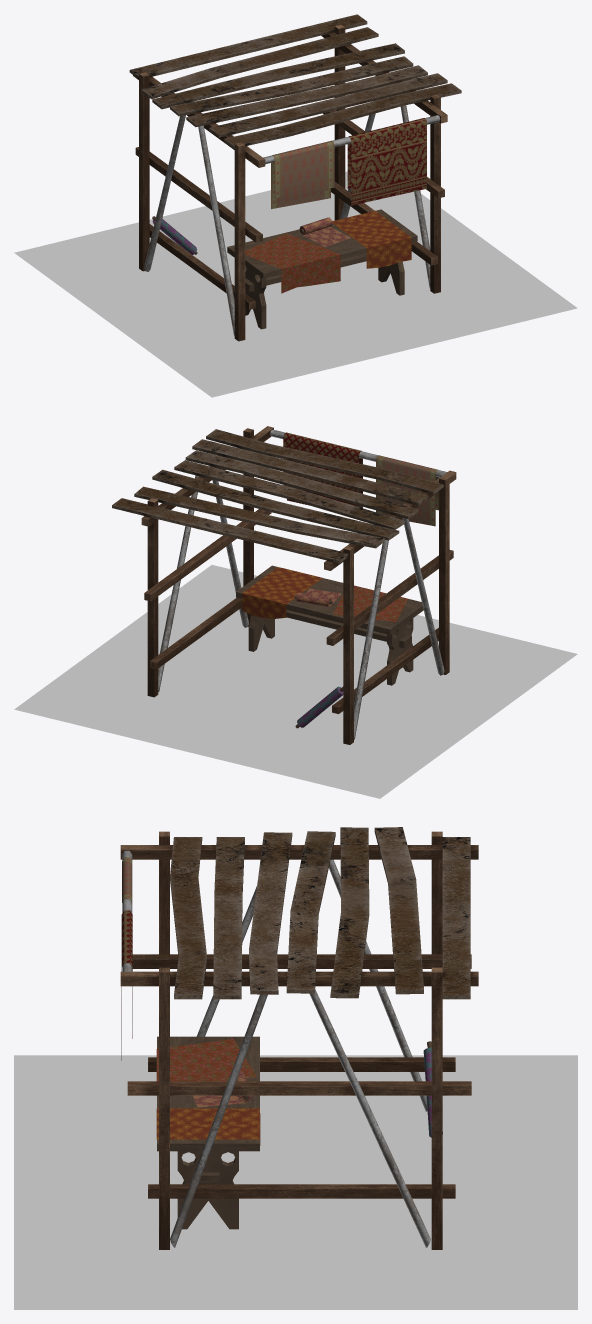
3 renders of one model, top to bottom at view 1: azimuth 30°, elevation 25°; view 2: azimuth 150°, elevation 25°; view 3: azimuth 270°, elevation 25°, orthographic. The views are drawn at different scales.
Parts seen in each view (by area): view 1: Plane.008, BaseBody_02, Carpet, BaseBody_02.001; view 2: Plane.008, BaseBody_02, Carpet; view 3: Plane.008, BaseBody_02, Carpet.
Boxes of the visible parts, x1,y1,x2,y2 form: Plane.008: [14, 171, 577, 397]; BaseBody_02: [129, 14, 461, 341]; Carpet: [245, 118, 426, 293]; BaseBody_02.001: [303, 226, 350, 246]; Plane.008: [14, 565, 577, 798]; BaseBody_02: [112, 426, 456, 744]; Carpet: [242, 432, 439, 621]; Plane.008: [14, 1055, 577, 1309]; BaseBody_02: [120, 827, 478, 1249]; Carpet: [121, 857, 260, 1145].
Size of the model in its own units: 586 by 298 by 549.
